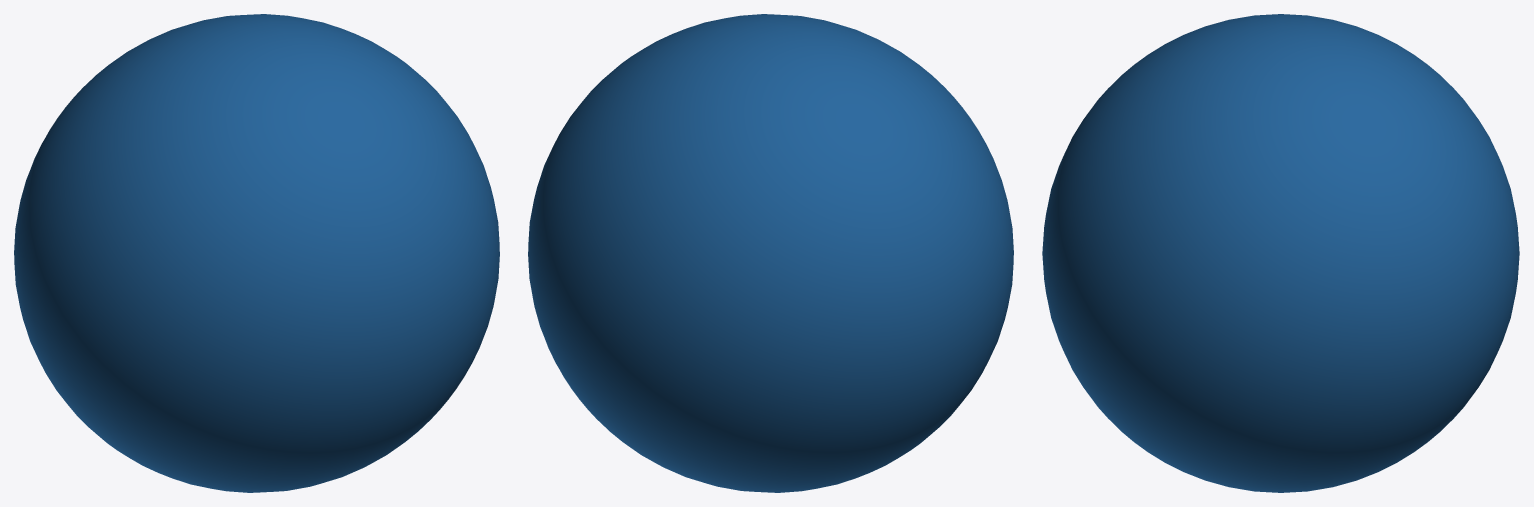
The model's file is Neptune.glb.
3 views of the same model, side by side, from view 1: azimuth 30°, elevation 25°; view 2: azimuth 150°, elevation 25°; view 3: azimuth 270°, elevation 25° (orthographic).
Parts seen in each view (by area): view 1: mesh_id27; view 2: mesh_id27; view 3: mesh_id27.
Boxes of the visible parts, x1,y1,x2,y2 form: mesh_id27: (14, 14, 499, 492); mesh_id27: (528, 14, 1013, 492); mesh_id27: (1042, 14, 1519, 492).
Bounding box in the file's own units: 0.1885 × 0.1847 × 0.1847.
Materials: 1 (1 with a texture image).
